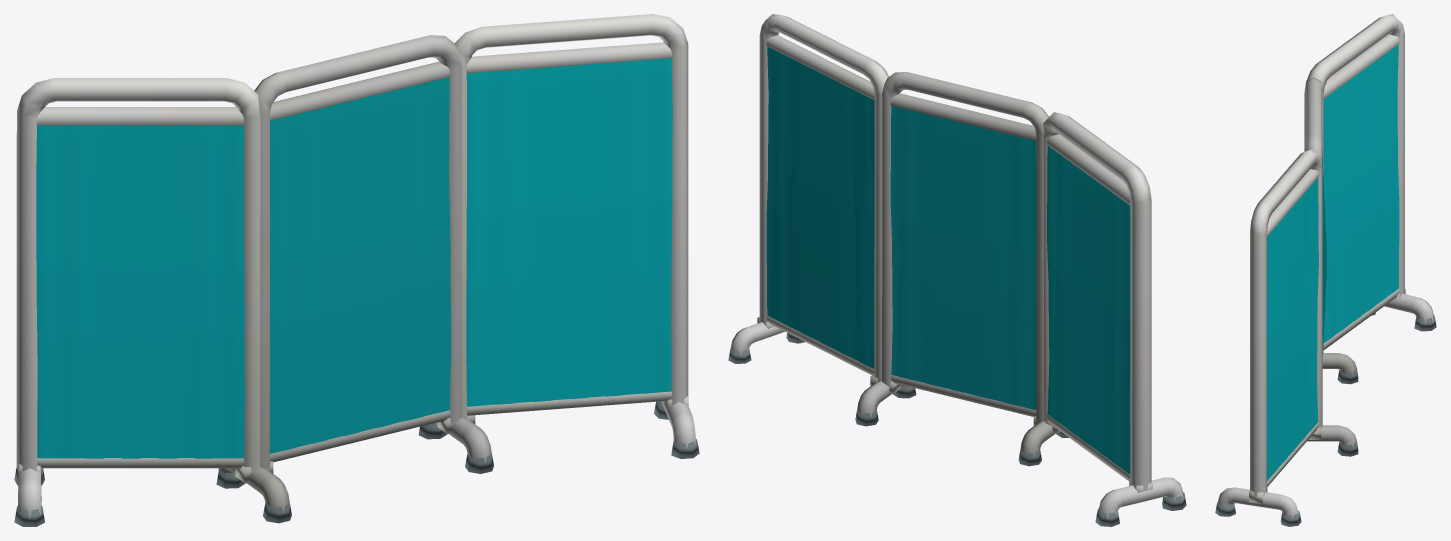
File: Pfb_JLAB_Screen__2.fbx
3 renders of one model, left to right at view 1: azimuth 30°, elevation 25°; view 2: azimuth 150°, elevation 25°; view 3: azimuth 270°, elevation 25°, orthographic. The views are drawn at different scales.
Parts seen in each view (by area): view 1: Color, Color 1; view 2: Color, Color 1; view 3: Color, Color 1.
Boxes of the visible parts, left/top/right/bottom form: Color: left=14, top=14, right=699, bottom=526; Color 1: left=216, top=35, right=493, bottom=523; Color: left=728, top=14, right=1186, bottom=526; Color 1: left=855, top=72, right=1068, bottom=466; Color: left=1215, top=14, right=1436, bottom=526; Color 1: left=1305, top=77, right=1358, bottom=456.
Bounding box in the file's own units: 2.66 × 1.75 × 1.13.
Materials: 2 (2 with a texture image).
